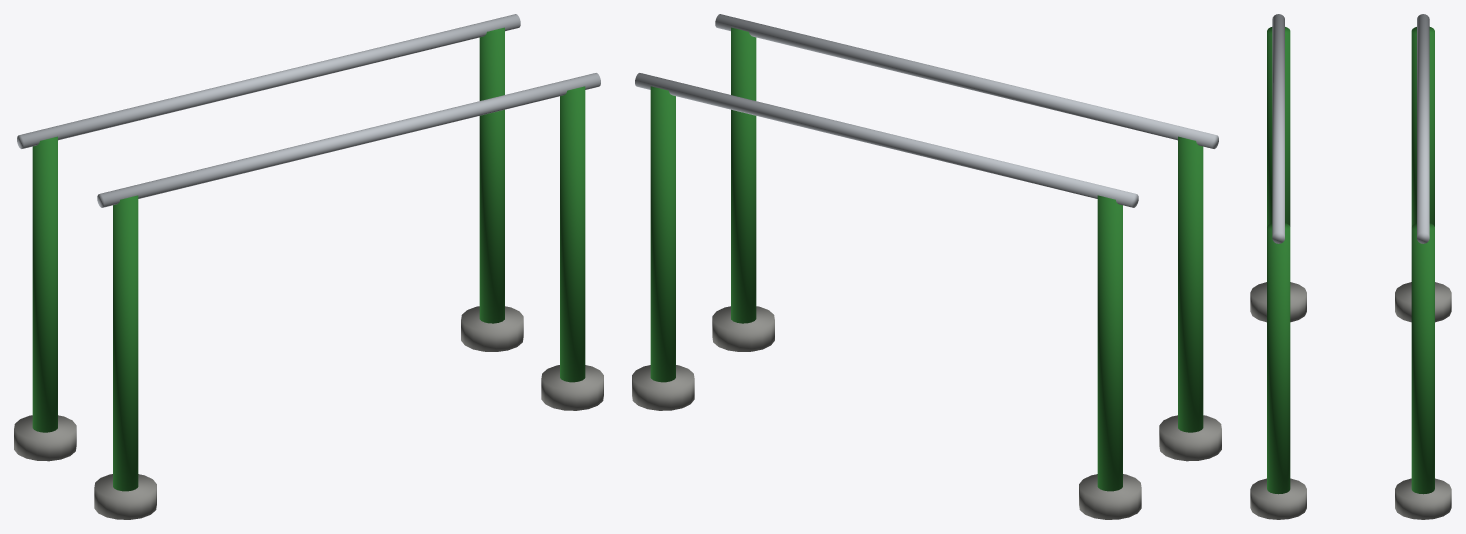
The model's file is fitness_parallel_bars.glb.
3 views of the same model, side by side, from view 1: azimuth 30°, elevation 25°; view 2: azimuth 150°, elevation 25°; view 3: azimuth 270°, elevation 25° (orthographic). The views are drawn at different scales.
Visible parts, largest first — view 1: ParallelBars; view 2: ParallelBars; view 3: ParallelBars.
Boxes of the visible parts, x1,y1,x2,y2 form: ParallelBars: (14,14,603,519); ParallelBars: (632,14,1221,519); ParallelBars: (1250,14,1451,519).
Bounding box in the file's own units: 2.02 × 1.23 × 0.78.
